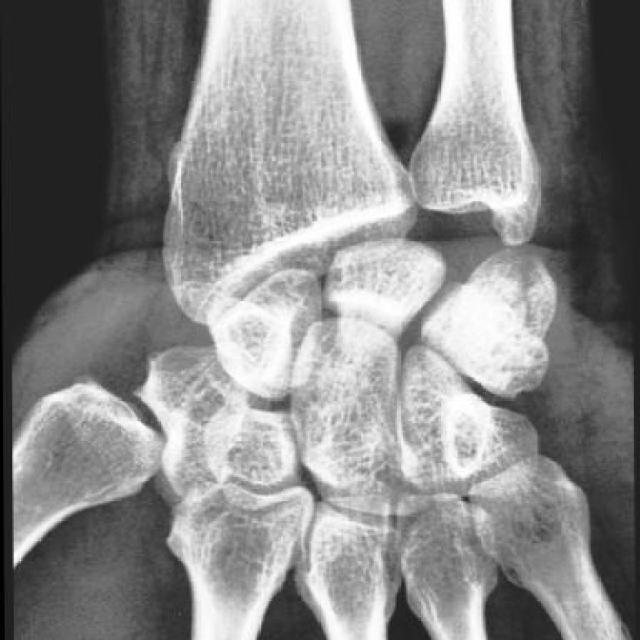Fracture: (477, 248, 569, 362)
